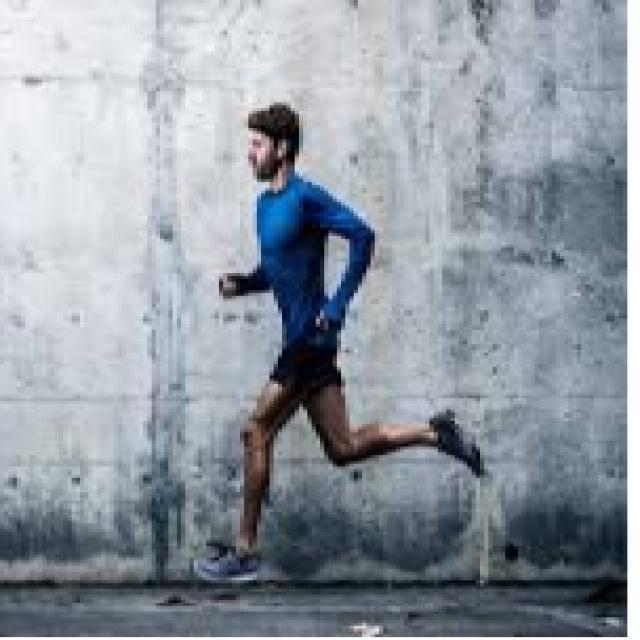running: (181, 100, 496, 584)
